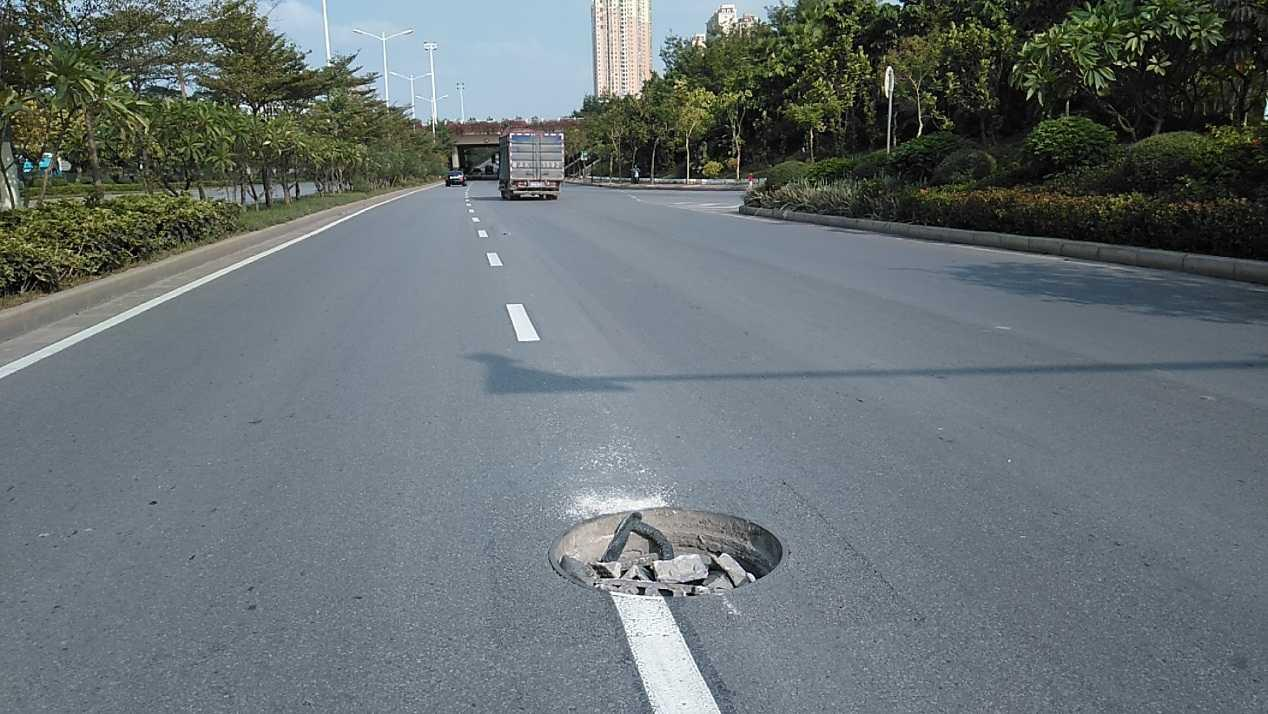wellcover: (508, 490, 851, 626)
